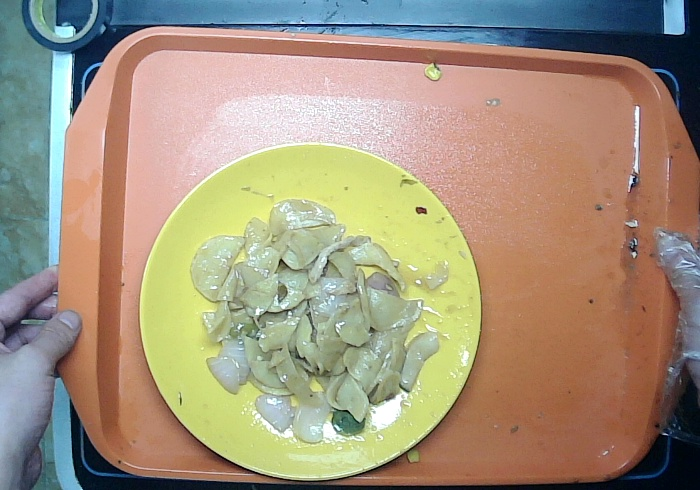HZYJPL-Huang_Se_Yuan_Pan: (138, 139, 486, 490)
